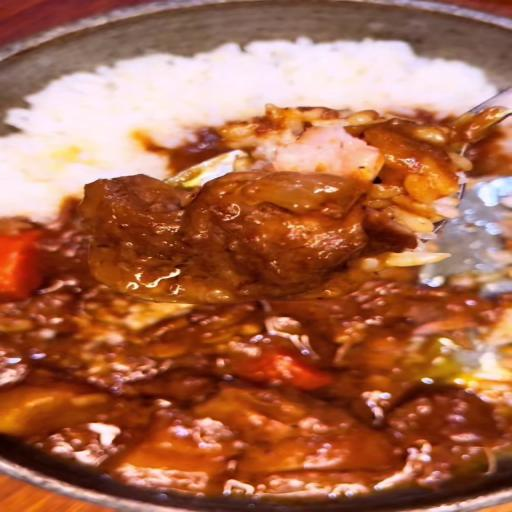pork caldereta: (0, 164, 511, 496)
